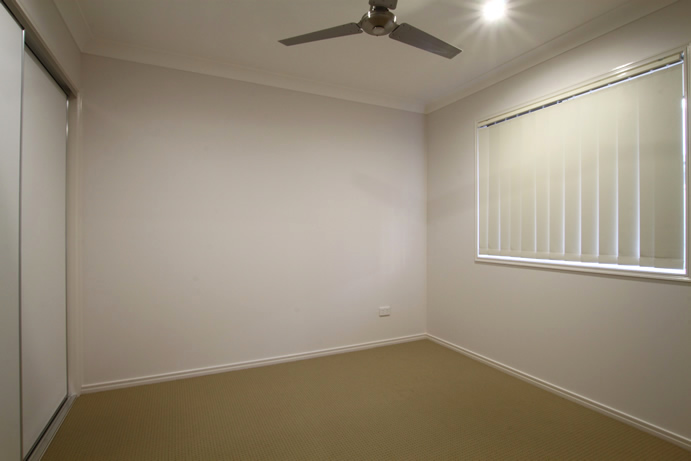ceiling fan: (273, 1, 469, 68)
